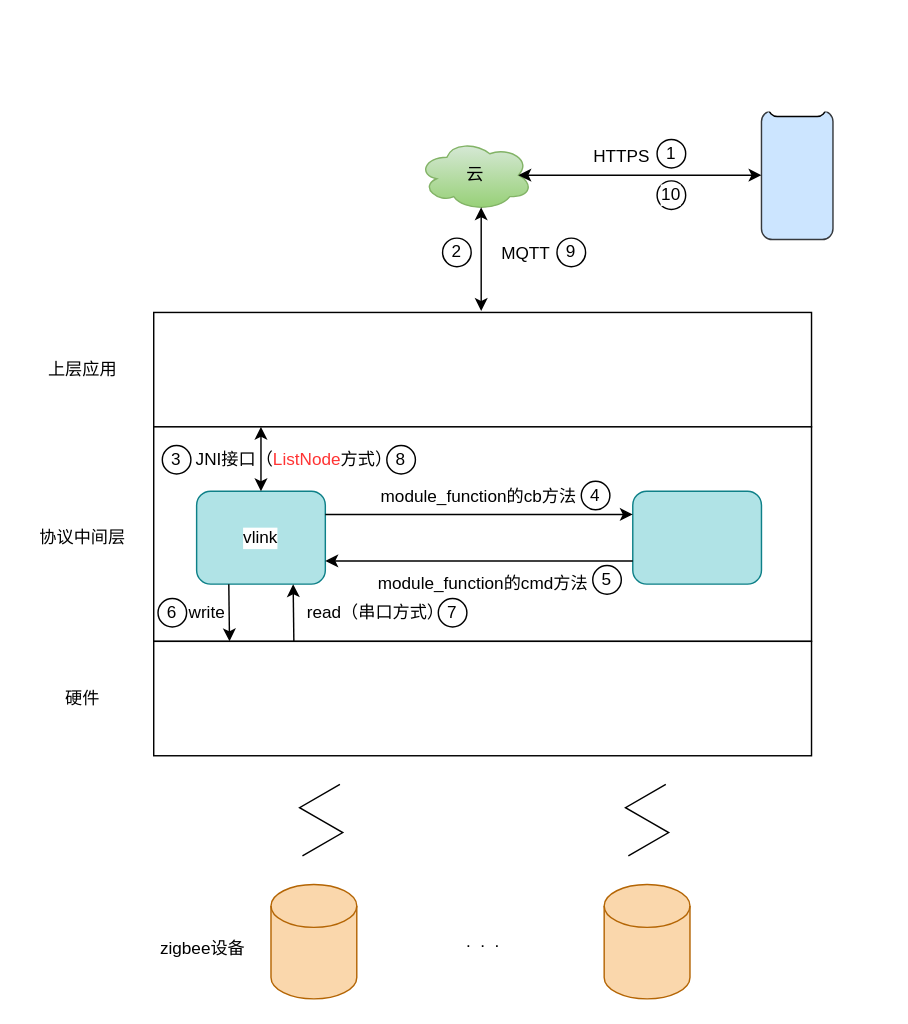
This 908x1024 diagram has some shape labels left out. Each missing label, with the centre of its shape:
"APP" belongs at pixel 796 174.
"pad" belongs at pixel 482 369.
"zb" belongs at pixel 696 537.
"zigbee模组" belongs at pixel 482 698.
